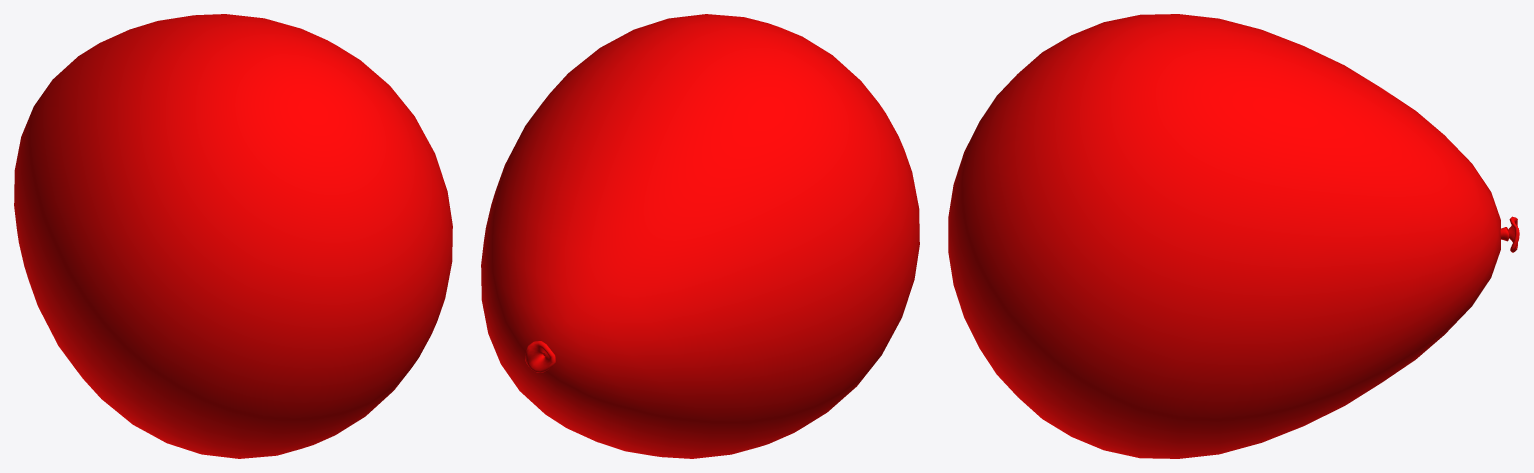
File: balloon.obj
3 views of the same model, side by side, from view 1: azimuth 30°, elevation 25°; view 2: azimuth 150°, elevation 25°; view 3: azimuth 270°, elevation 25° (orthographic).
Size of the model in its own units: 98.45 by 105 by 133.
